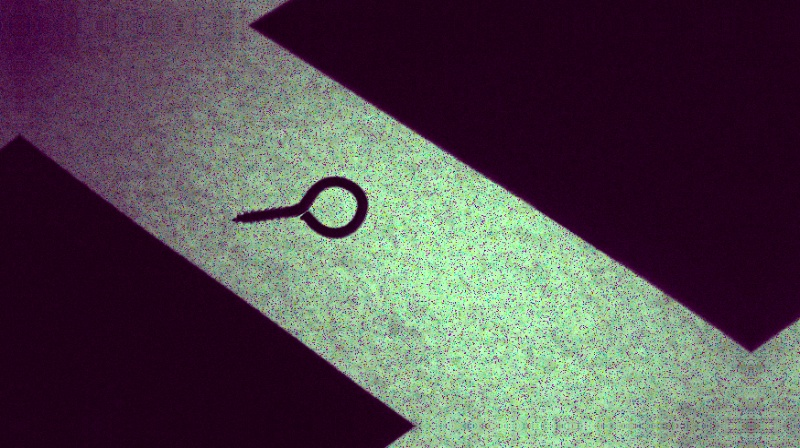O001: (229, 174, 370, 240)
